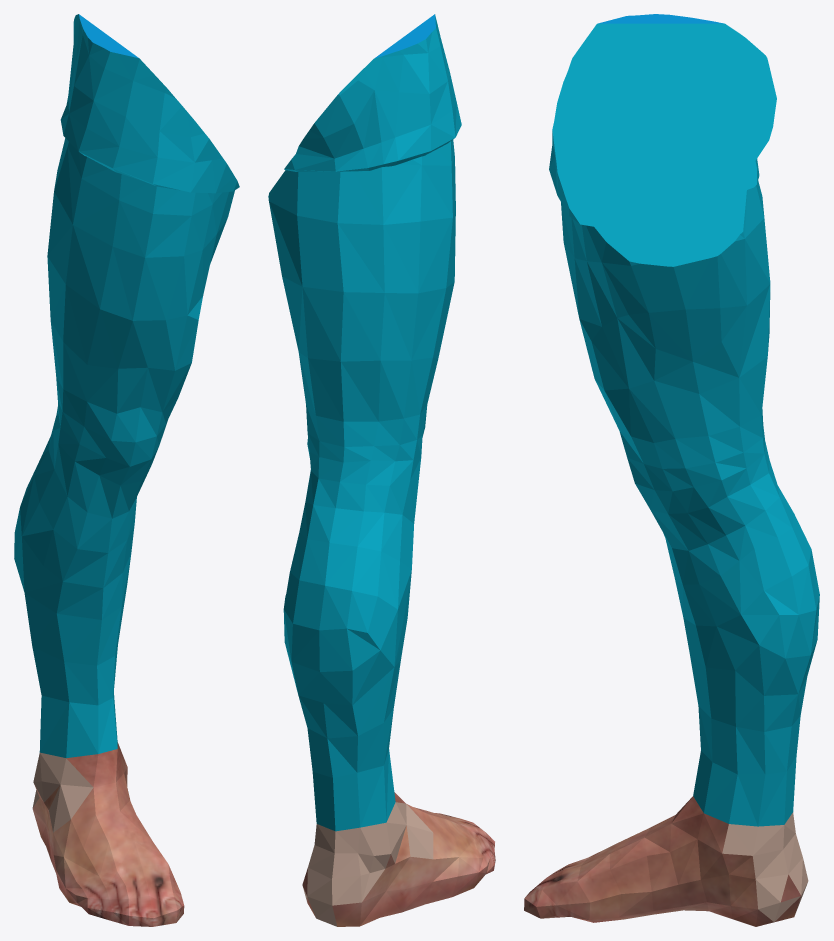
The model's file is piedg.glb.
The picture shows the model from 3 angles, left to right: view 1: azimuth 30°, elevation 25°; view 2: azimuth 150°, elevation 25°; view 3: azimuth 270°, elevation 25°; orthographic projection. The views are drawn at different scales.
Size of the model in its own units: 0.2382 by 1.13 by 0.339.
3 materials, 1 textured.
